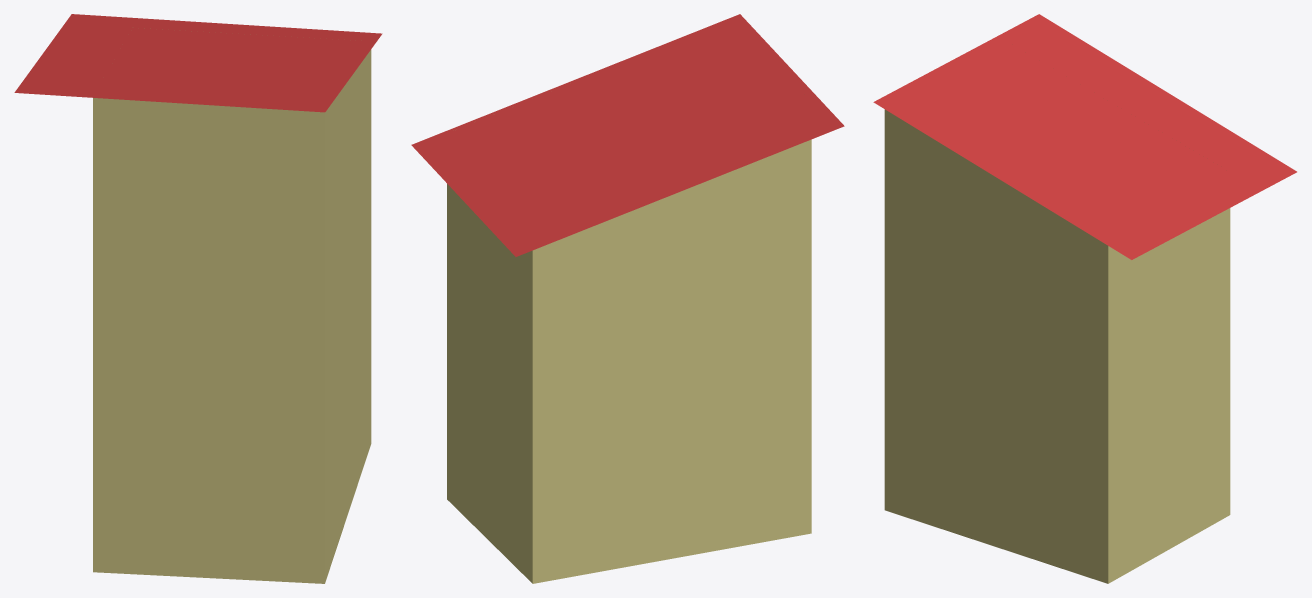
The picture shows the model from 3 angles, left to right: view 1: azimuth 30°, elevation 25°; view 2: azimuth 150°, elevation 25°; view 3: azimuth 270°, elevation 25°; orthographic projection. The views are drawn at different scales.
Bounding box in the file's own units: 7.83 × 8.02 × 8.45.
